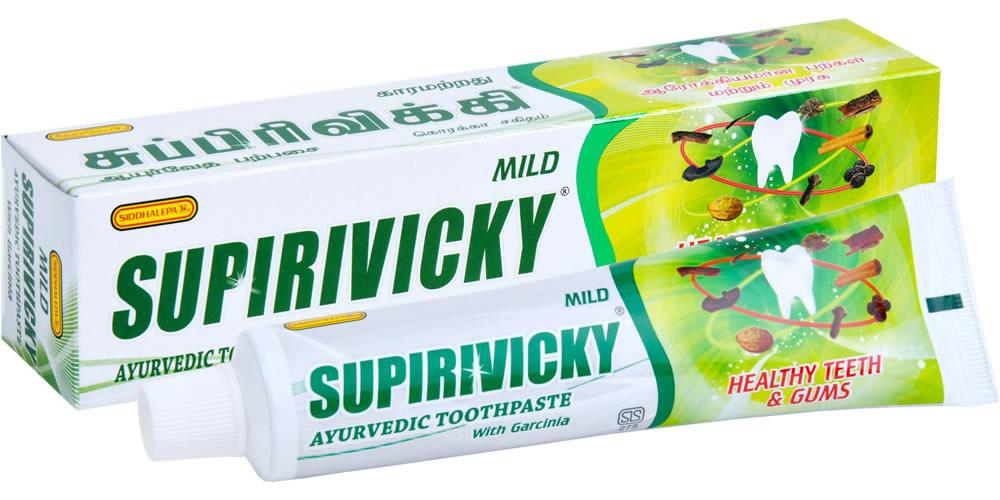toothpaste: (0, 18, 953, 413), (148, 174, 1000, 486)
